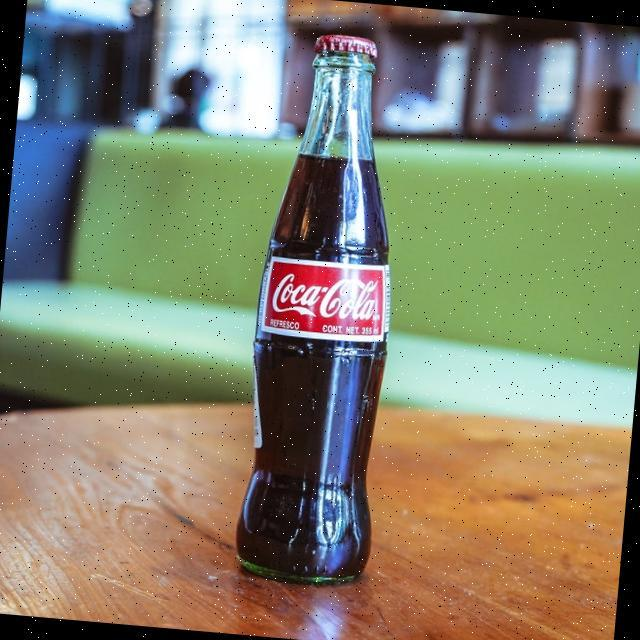coca-cola: (227, 22, 422, 587)
